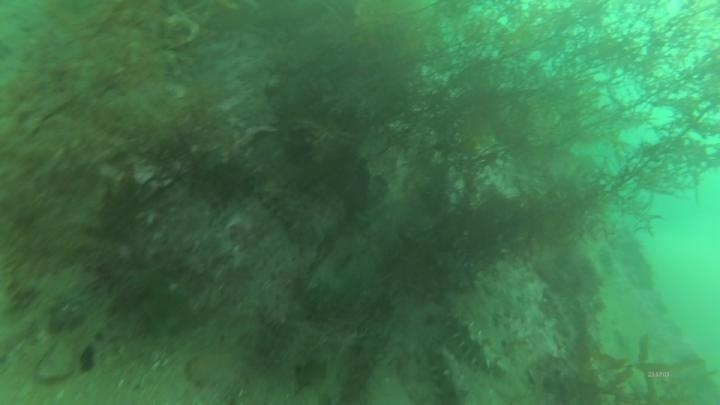holothurian: (248, 174, 327, 248), (315, 329, 377, 405), (443, 307, 509, 377), (427, 343, 470, 405)
